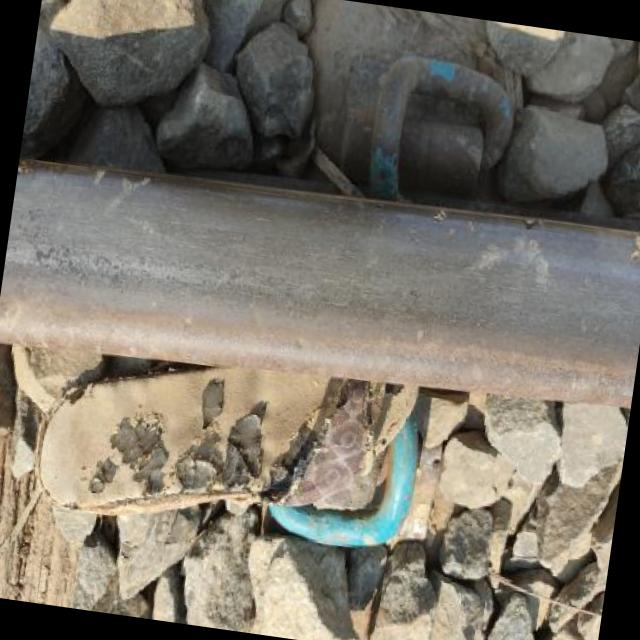non-defective: (0, 137, 640, 438)
